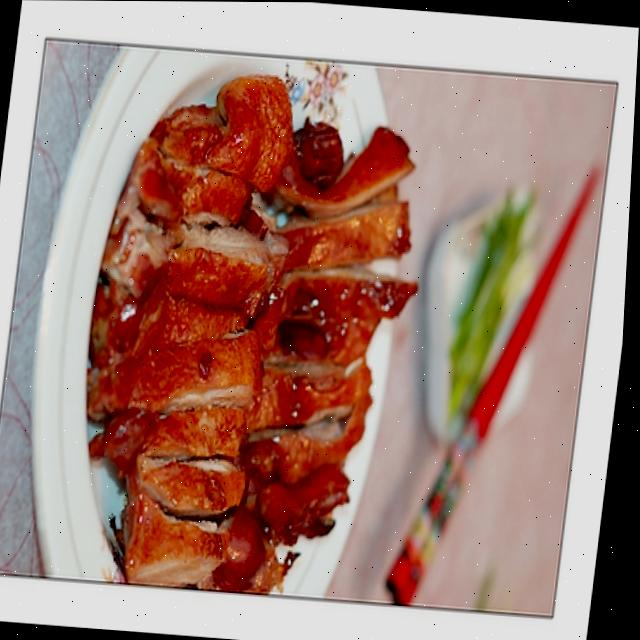烧串烤肉: (19, 52, 465, 605)
